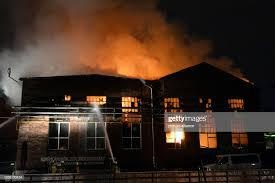fire: (120, 95, 138, 112)
